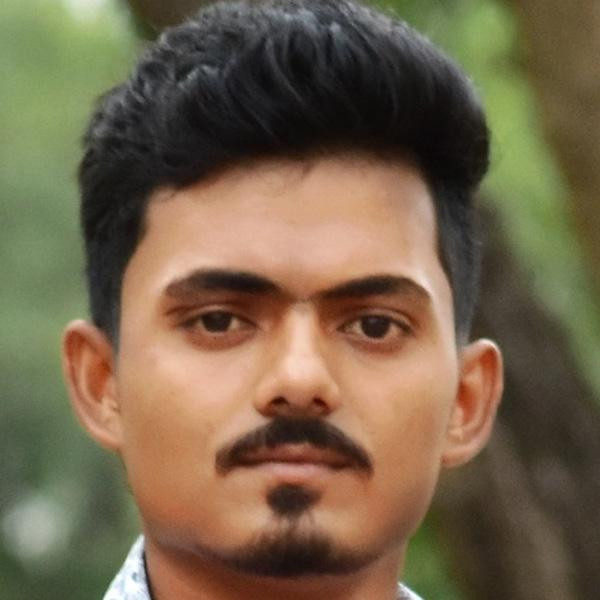Eyes: (171, 296, 269, 351), (328, 301, 422, 358)
